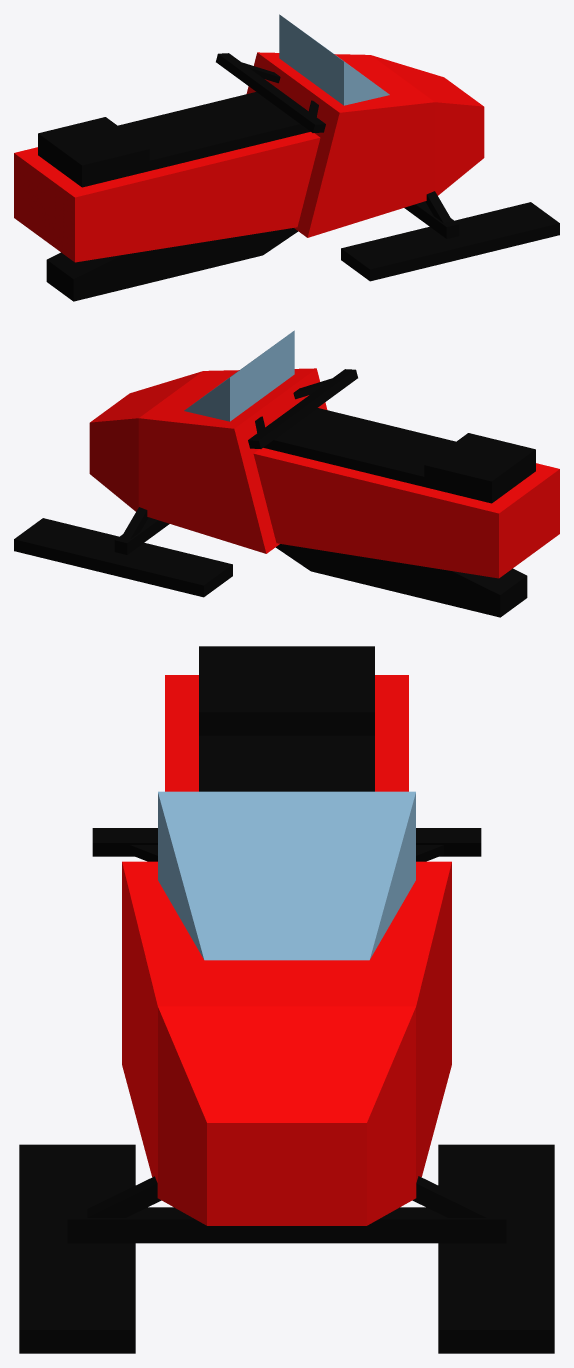
The model's file is Snowmobile_04.fbx.
The picture shows the model from 3 angles, top to bottom: view 1: azimuth 30°, elevation 25°; view 2: azimuth 150°, elevation 25°; view 3: azimuth 270°, elevation 25°; orthographic projection. The views are drawn at different scales.
Parts seen in each view (by area): view 1: Snowmobile_04; view 2: Snowmobile_04; view 3: Snowmobile_04.
Part boxes in pixels (x1,y1,x2,y2): Snowmobile_04: [14, 14, 559, 301]; Snowmobile_04: [14, 330, 559, 617]; Snowmobile_04: [19, 646, 554, 1353].
Bounding box in the file's own units: 0.3526 × 0.1445 × 0.1821.
